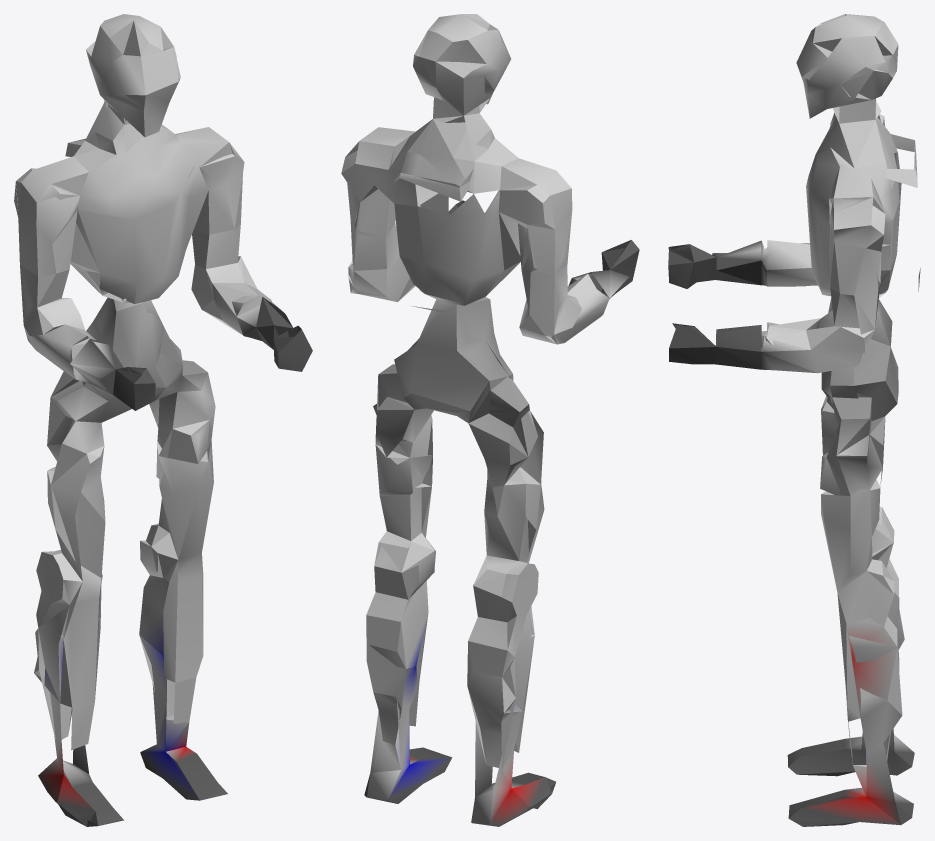
File: unitree-r1.l2.glb
3 renders of one model, left to right at view 1: azimuth 30°, elevation 25°; view 2: azimuth 150°, elevation 25°; view 3: azimuth 270°, elevation 25°, orthographic.
Visible parts, largest first — view 1: unitree-r1__l2; view 2: unitree-r1__l2; view 3: unitree-r1__l2.
Boxes of the visible parts, x1,y1,x2,y2 form: unitree-r1__l2: (14,14,312,826); unitree-r1__l2: (341,14,639,826); unitree-r1__l2: (668,14,920,826).
Size of the model in its own units: 0.355 by 1.23 by 0.3616.
